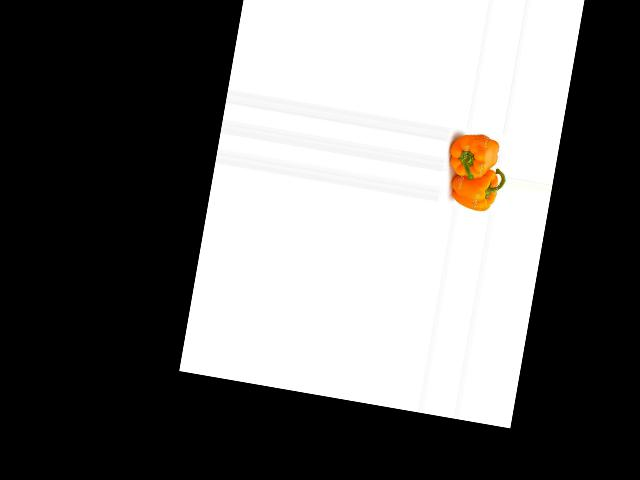bell_pepper: (447, 159, 505, 215)
